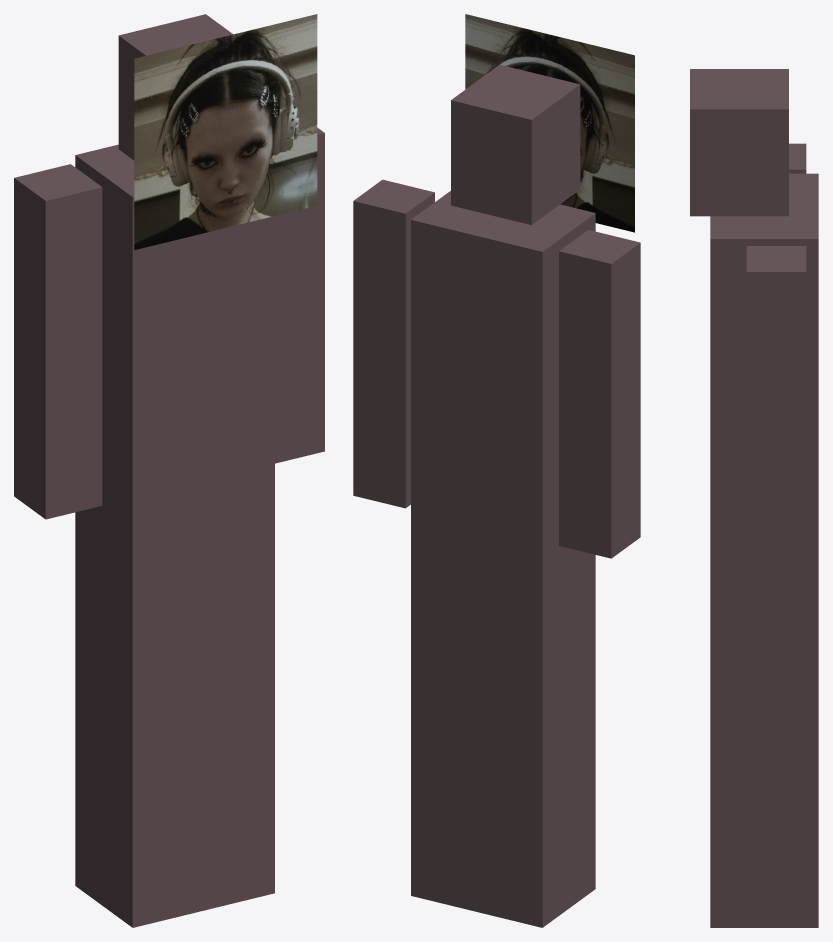
Rendered from Gudbjorg.glb.
3 renders of one model, left to right at view 1: azimuth 30°, elevation 25°; view 2: azimuth 150°, elevation 25°; view 3: azimuth 270°, elevation 25°, orthographic. The views are drawn at different scales.
Parts seen in each view (by area): view 1: Gudbjorg; view 2: Gudbjorg; view 3: Gudbjorg.
Part boxes in pixels (x1=…): Gudbjorg: x1=14, y1=14, x2=324, y2=927; Gudbjorg: x1=353, y1=14, x2=640, y2=927; Gudbjorg: x1=690, y1=69, x2=818, y2=927.
Bounding box in the file's own units: 0.5815 × 1.77 × 0.2863.
Materials: 2 (1 with a texture image).
